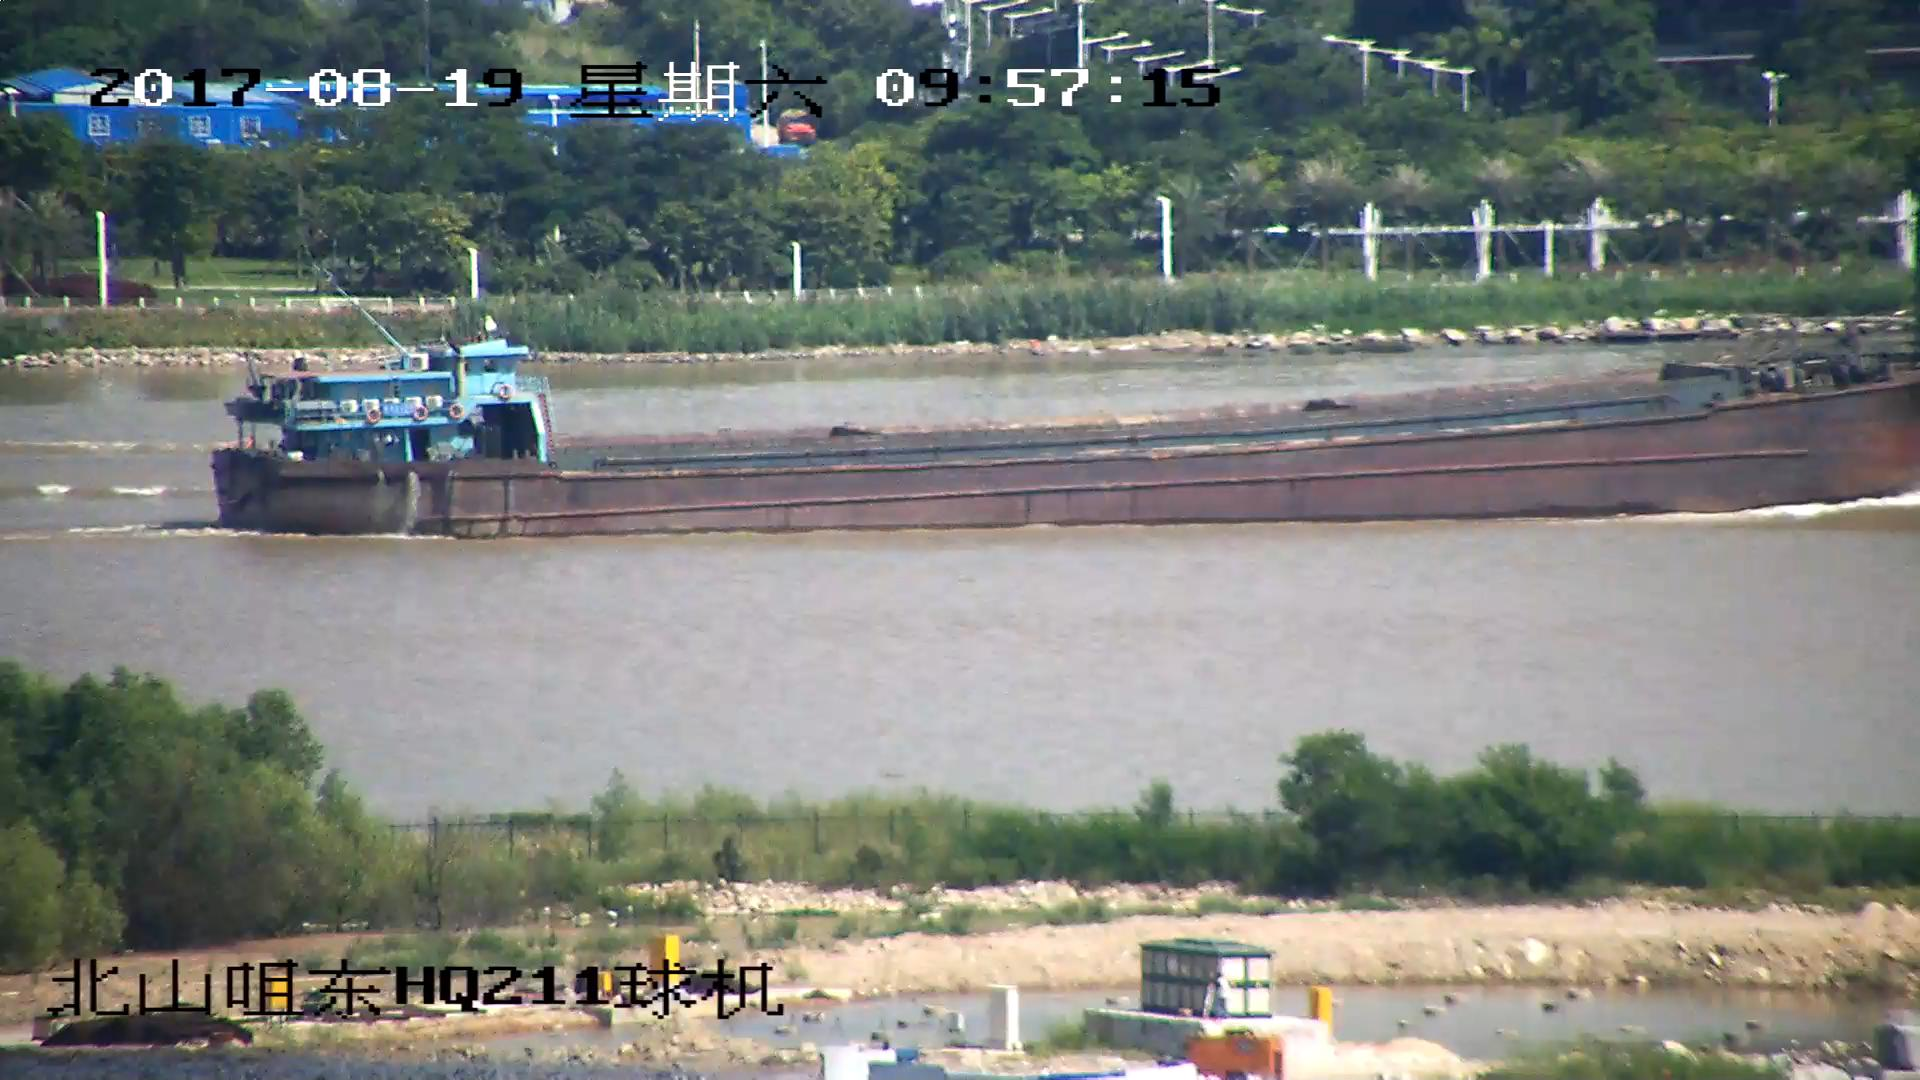bulk cargo carrier: (206, 329, 1920, 538)
